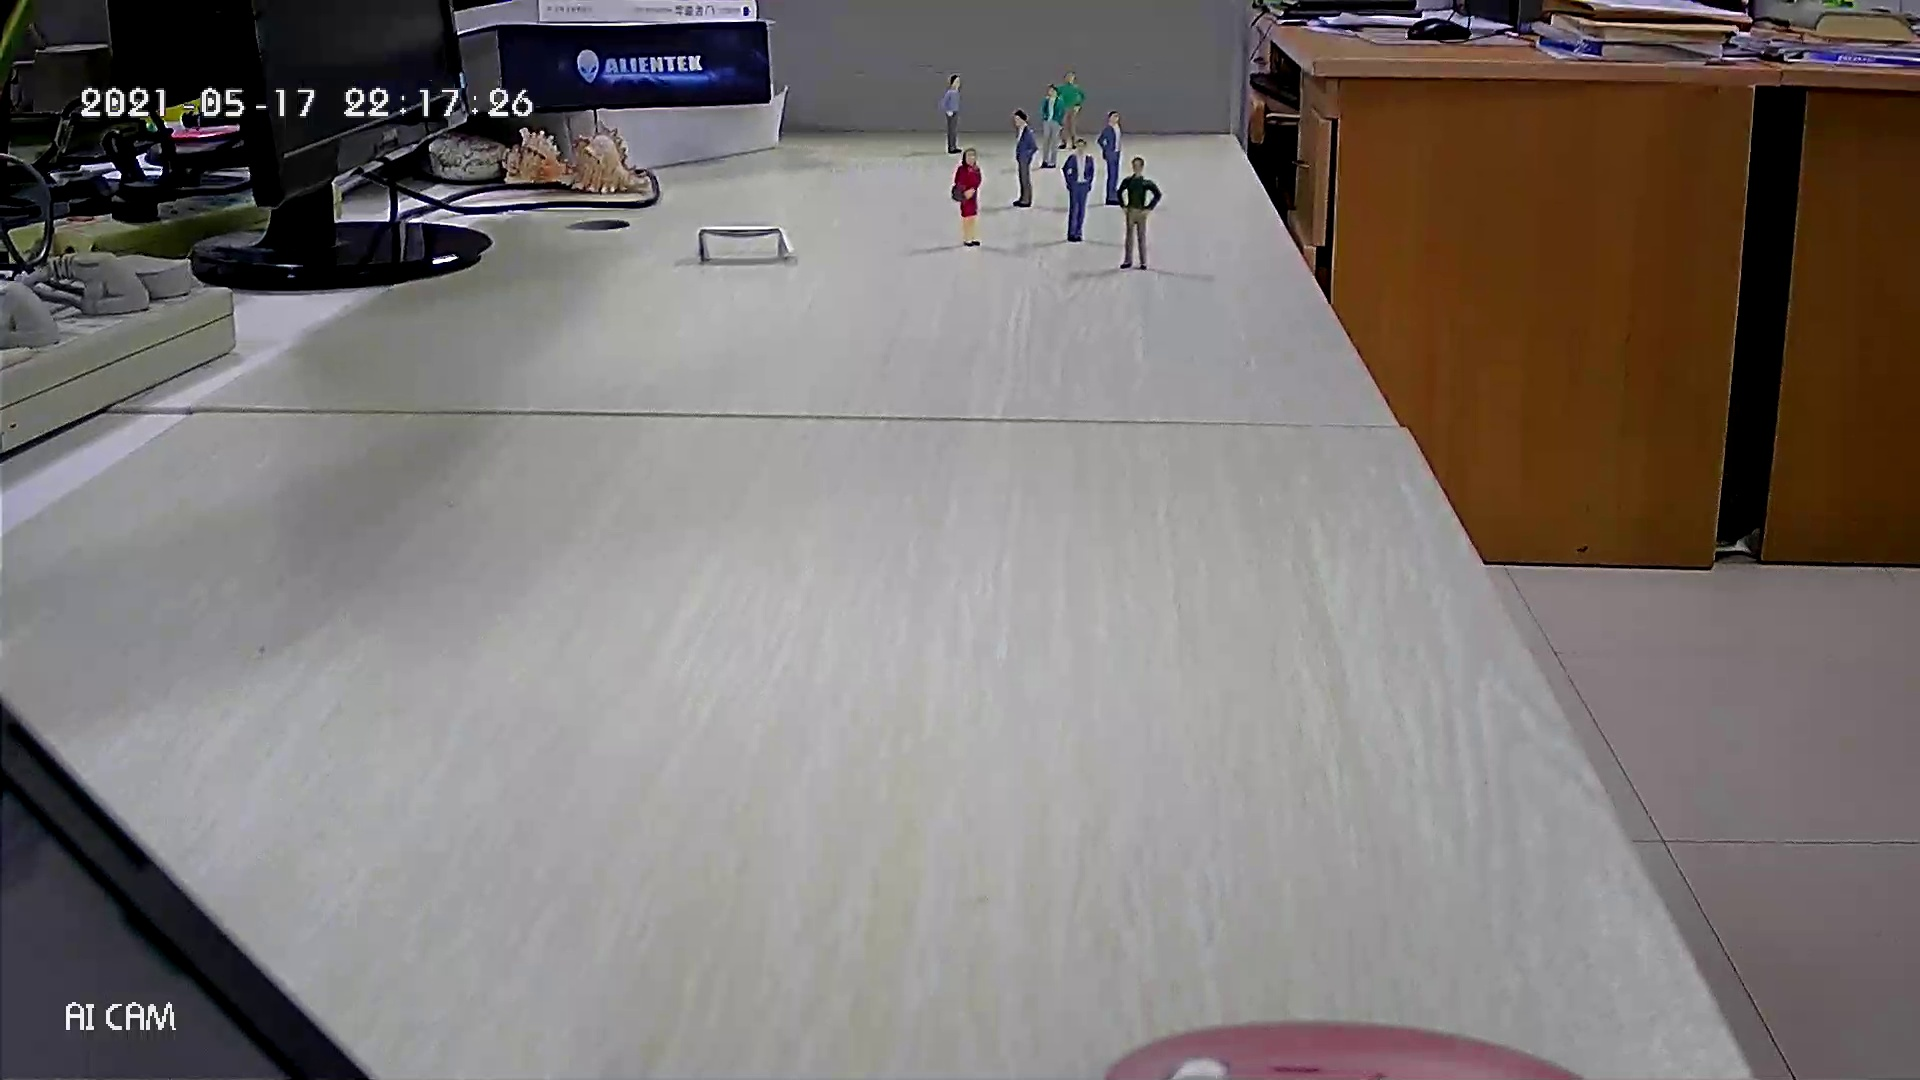person: (1117, 156, 1163, 271), (1061, 138, 1095, 244), (950, 147, 983, 248), (1010, 108, 1039, 209), (1097, 110, 1125, 207), (1055, 69, 1088, 150), (1039, 82, 1066, 171), (937, 72, 965, 155)
